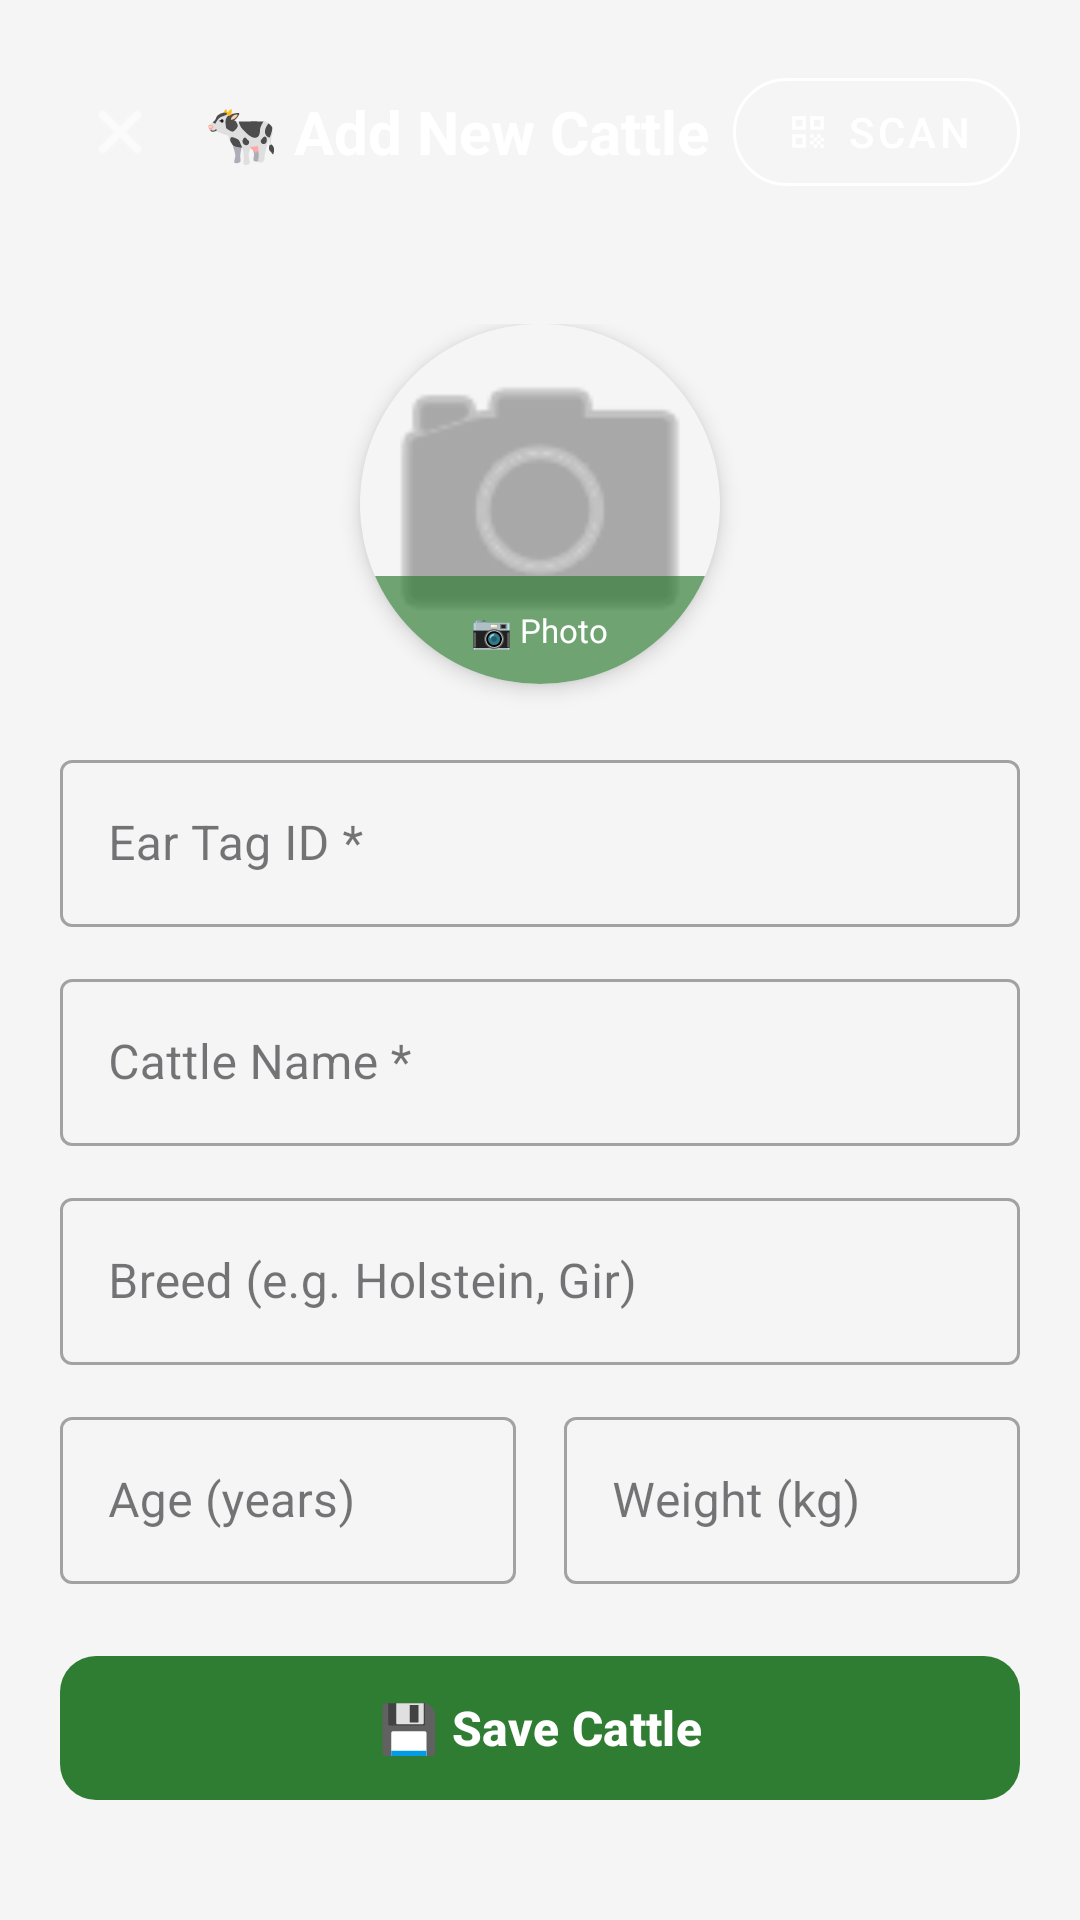

Icons on this 1080*1920 Android screen, each with its box as (x1, y1, x2, y2):
camera: (368, 389, 712, 684)
